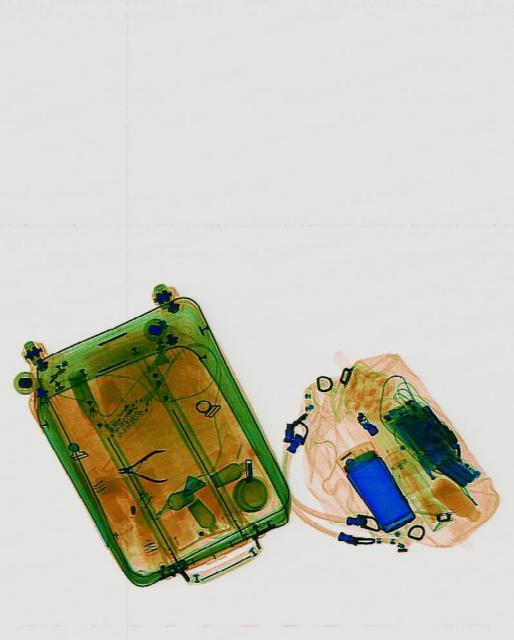Pliers: (116, 448, 167, 484)
